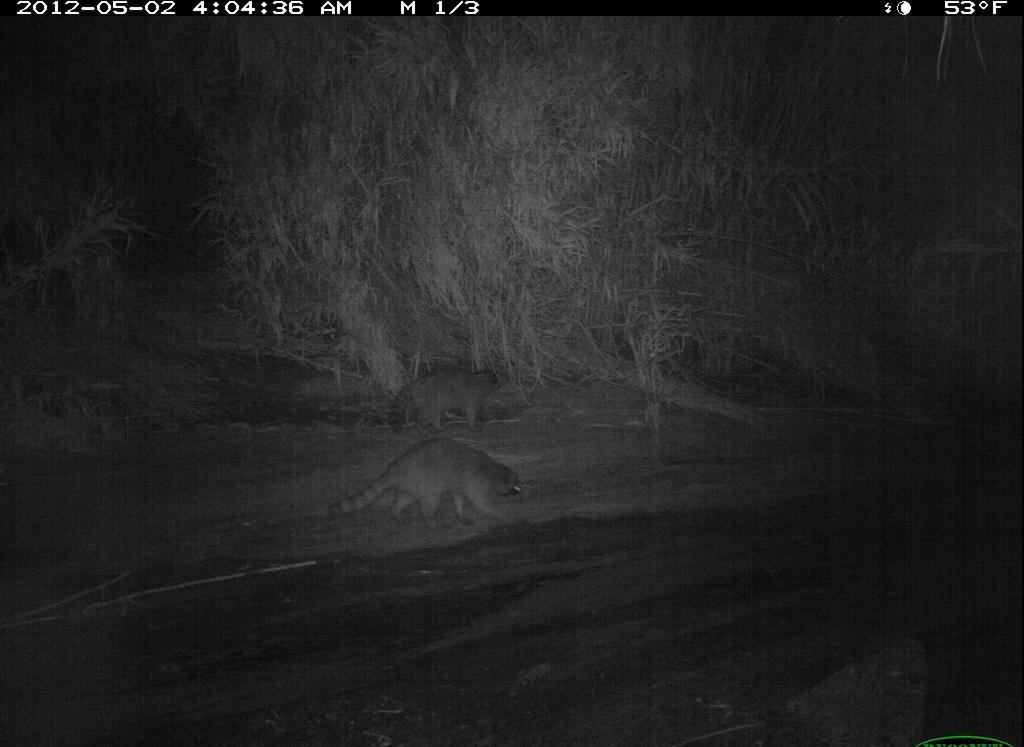raccoon: (326, 437, 538, 546), (369, 356, 528, 434)
